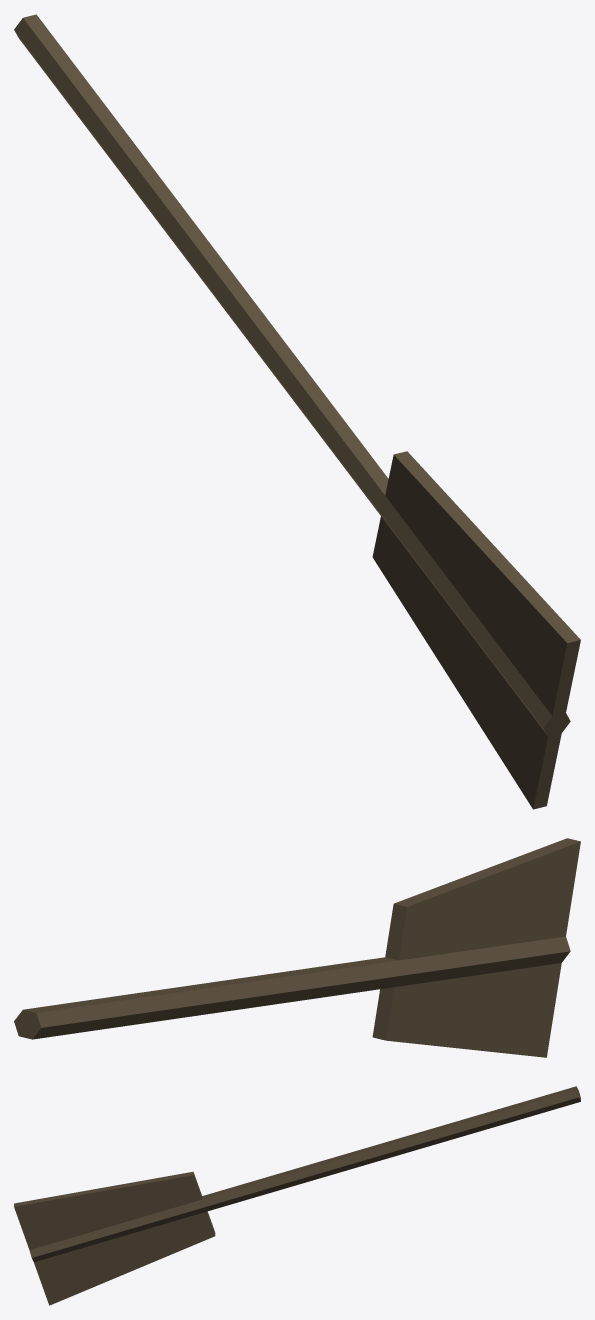
Rendered from Paddle.fbx.
3 views of the same model, one above another, from view 1: azimuth 30°, elevation 25°; view 2: azimuth 150°, elevation 25°; view 3: azimuth 270°, elevation 25° (orthographic). The views are drawn at different scales.
Parts seen in each view (by area): view 1: pCylinder3; view 2: pCylinder3; view 3: pCylinder3.
Boxes of the visible parts, box(x1,y1,x2,y2) form: pCylinder3: box(14, 14, 580, 809); pCylinder3: box(14, 838, 580, 1057); pCylinder3: box(14, 1086, 580, 1305).
Size of the model in its own units: 0.1206 by 1.77 by 4.21.
